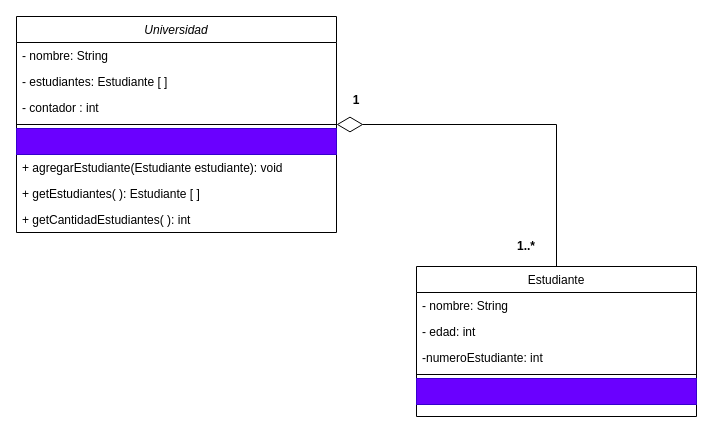
This 713x433 diagram has some shape labels left out. The centre of each missing label's shape, as x and y in pixels:
"+ Estudiante( nombre, edad,numeroEstudiante)" goes at pixel 556 391.
"+Universidad( nombre)" goes at pixel 176 141.
